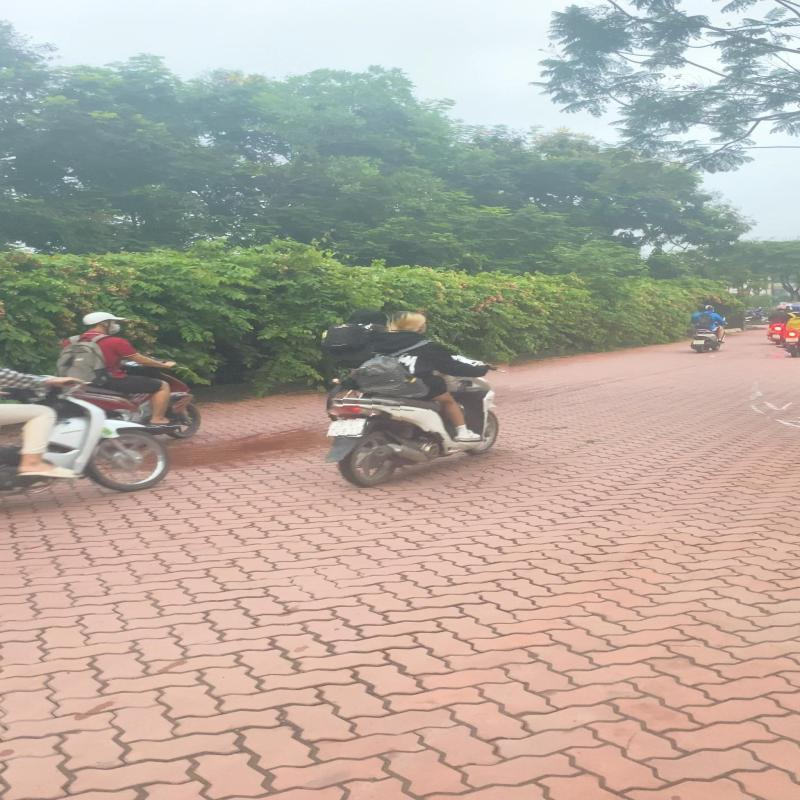licenseplate: (326, 418, 368, 437)
motorcyclist: (316, 308, 512, 488)
nohelmet: (391, 312, 428, 332)
